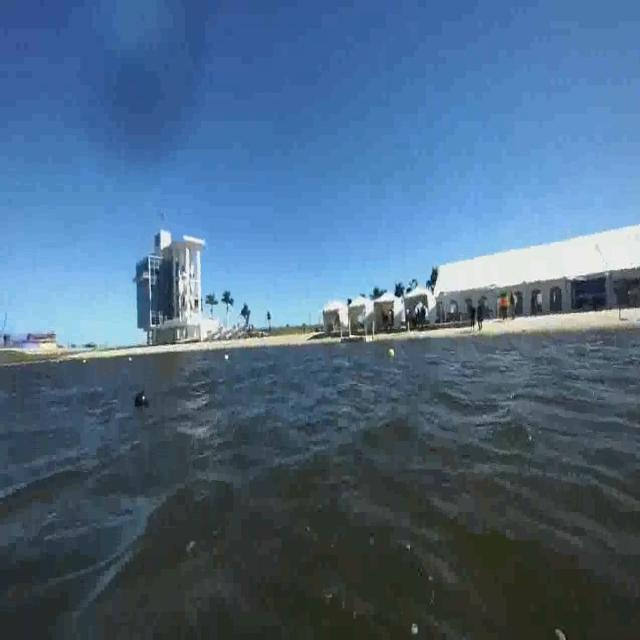black-buoy: (134, 390, 148, 409)
yellow-buoy: (387, 346, 396, 360)
